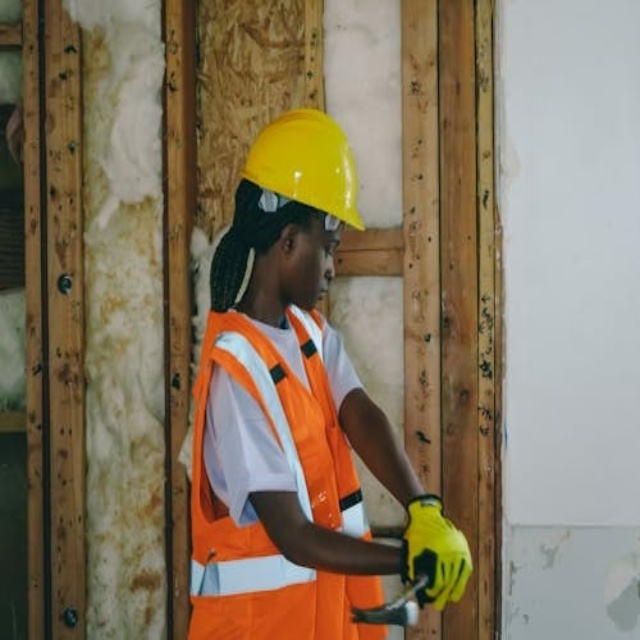Guantes: (400, 494, 473, 611)
Sin_gafas: (302, 232, 343, 261)
Sin_mascara: (300, 282, 332, 311)
